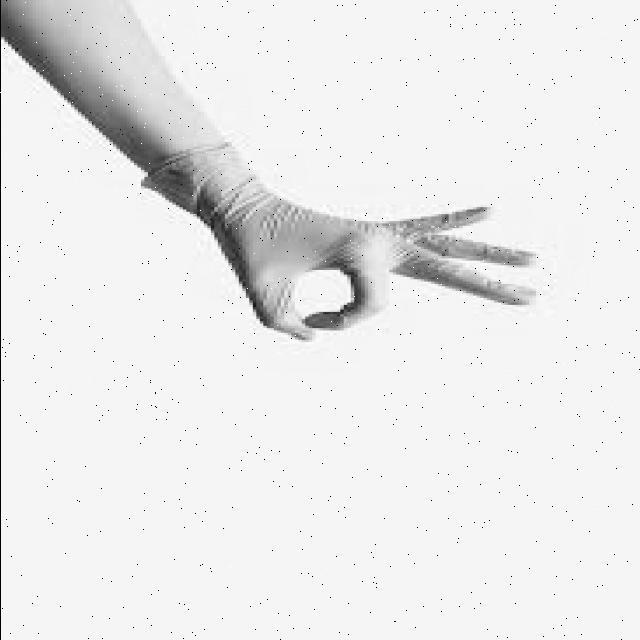apron: (158, 164, 542, 354)
